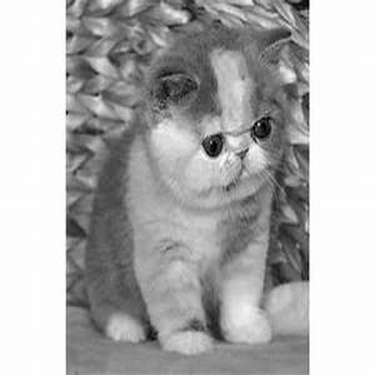cat: (96, 20, 300, 349)
